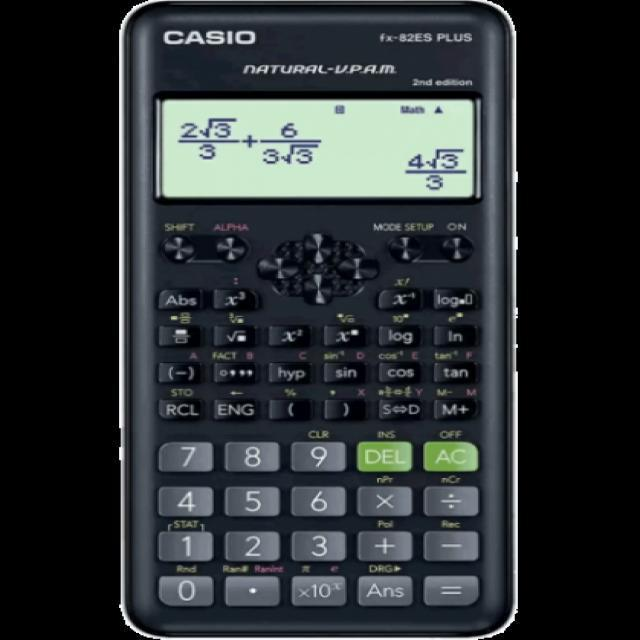Calculator: (120, 0, 520, 634)
